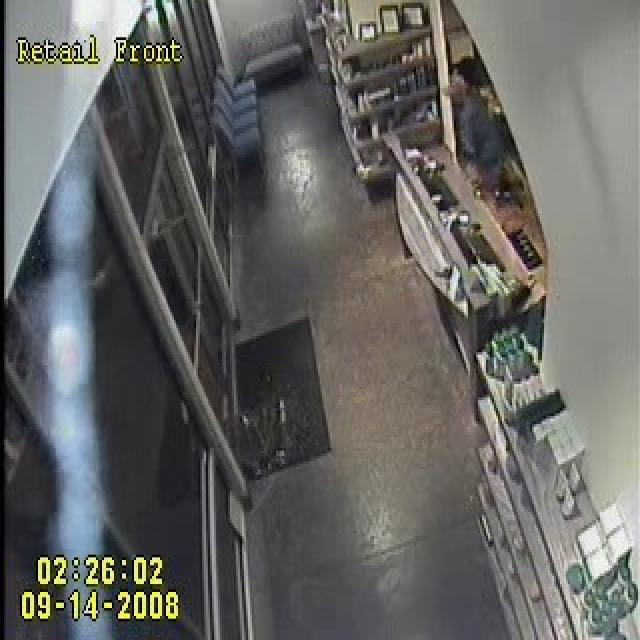thief: (452, 72, 516, 237)
